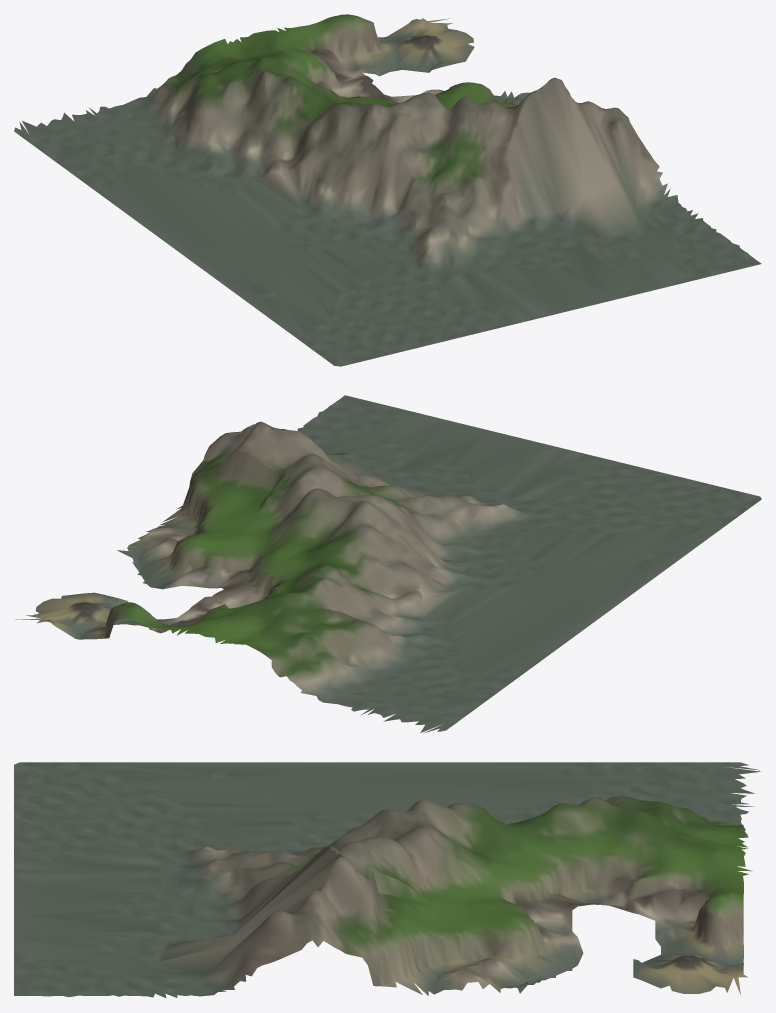
Rendered from coast_tile_x0z3_lod1.glb.
3 views of the same model, one above another, from view 1: azimuth 30°, elevation 25°; view 2: azimuth 150°, elevation 25°; view 3: azimuth 270°, elevation 25° (orthographic). The views are drawn at different scales.
Visible parts, largest first — view 1: coast_tile_x0z3_lod1; view 2: coast_tile_x0z3_lod1; view 3: coast_tile_x0z3_lod1.
Part boxes in pixels (left/top/right/bottom): coast_tile_x0z3_lod1: left=14, top=14, right=761, bottom=366; coast_tile_x0z3_lod1: left=15, top=395, right=761, bottom=733; coast_tile_x0z3_lod1: left=14, top=762, right=760, bottom=998.
Bounding box in the file's own units: 618 × 127 × 812.
